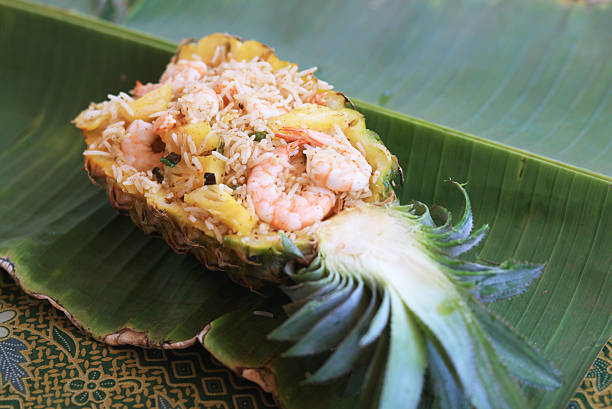파인애플볶음밥ㅈㅇㅇ: (64, 29, 563, 409)
